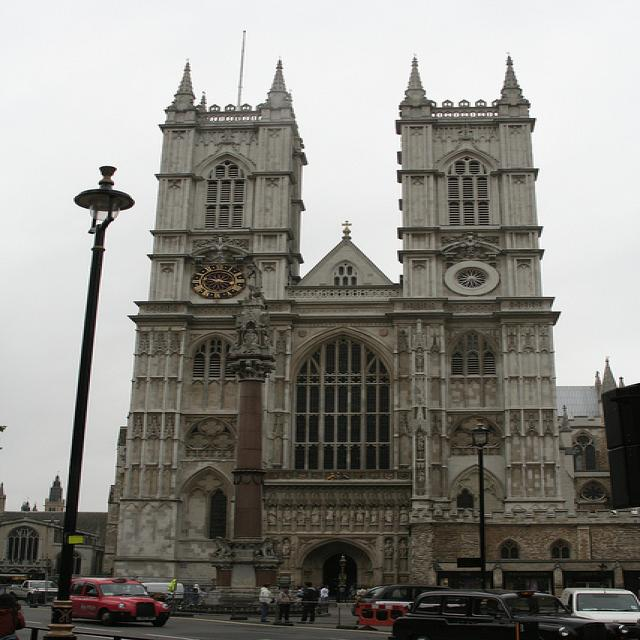Vehicle: (387, 588, 630, 639), (387, 586, 539, 640), (51, 577, 172, 627), (561, 588, 640, 632), (352, 585, 452, 619), (6, 580, 58, 604)
